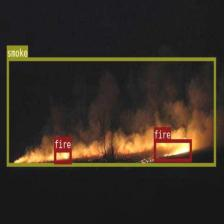fire: (153, 138, 191, 162), (54, 149, 71, 163)
smoke: (6, 57, 216, 166)
